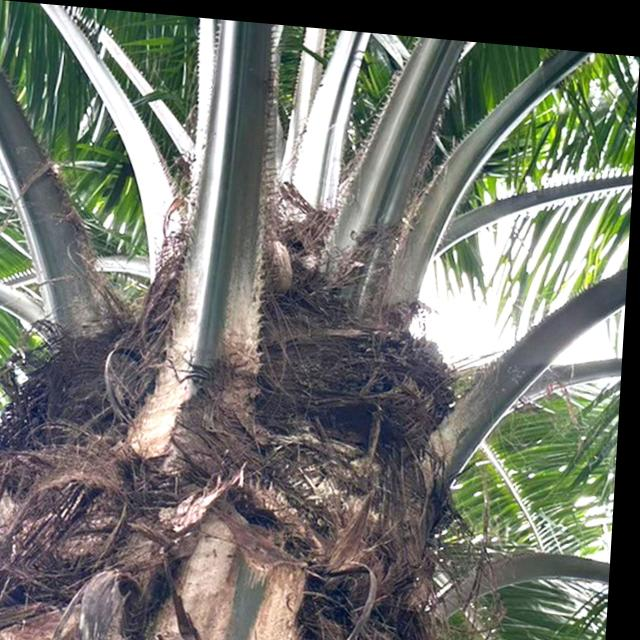unripe: (322, 308, 466, 443)
